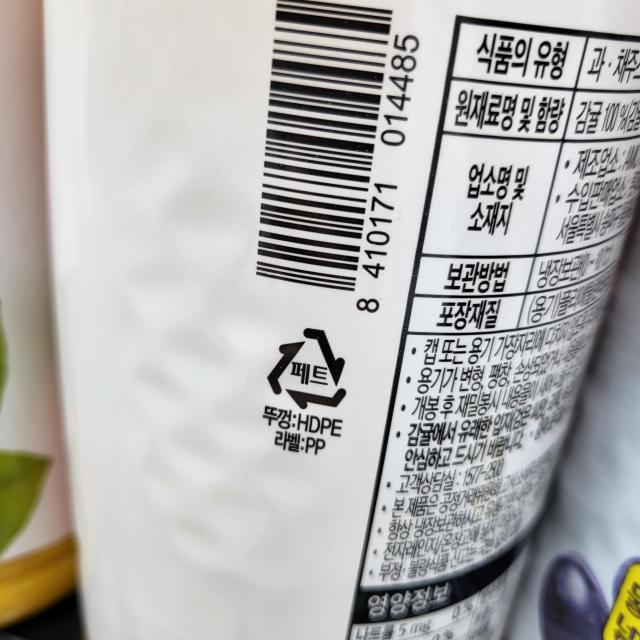PET: (266, 322, 350, 414)
